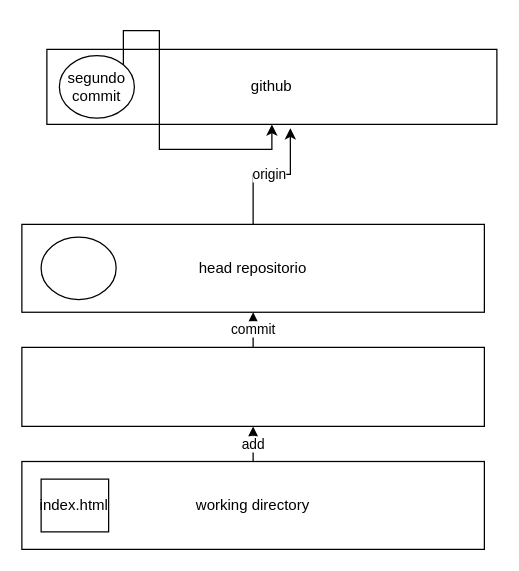
Some shapes in this 519 by 571 pixel diagram are drawn without their labels. Each missing label, with the centre of its shape:
estaging area: (252,386)
first commit: (78,268)
